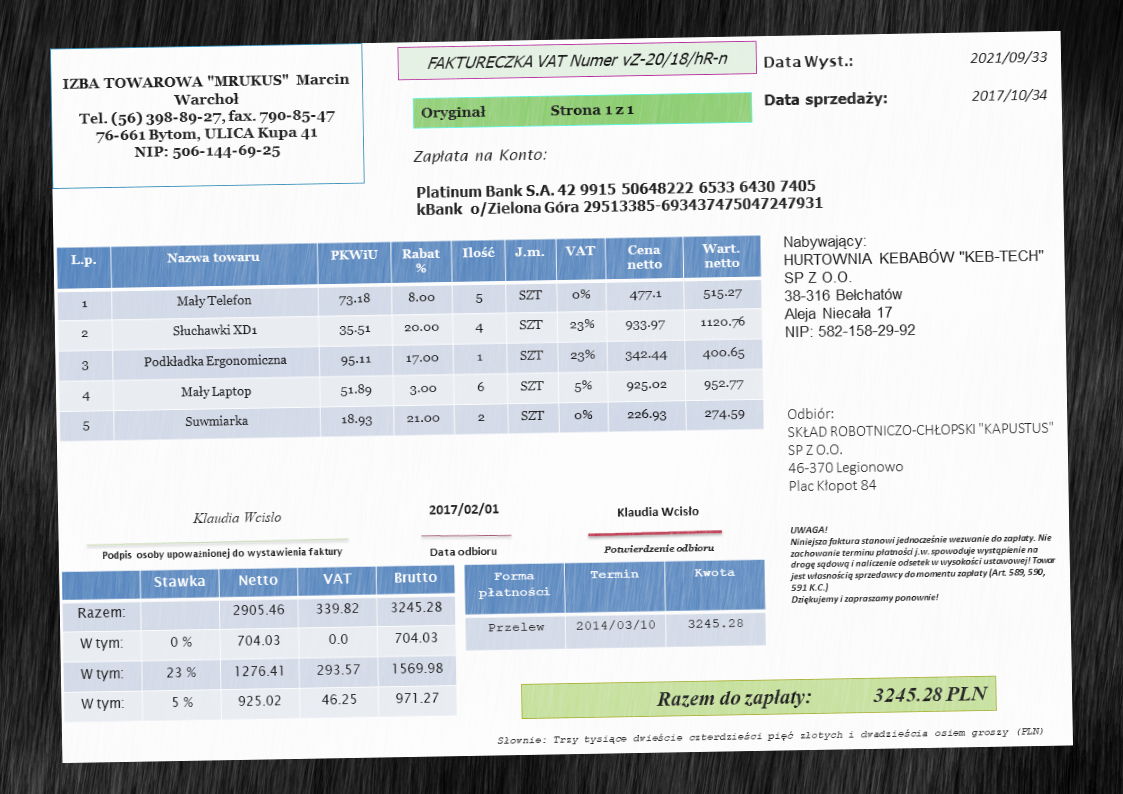Table: (55, 233, 765, 444), (60, 564, 457, 724), (462, 557, 768, 653)
TextBox: (781, 228, 1049, 341), (59, 69, 352, 165), (785, 401, 1058, 497), (786, 518, 1060, 608), (412, 176, 824, 219), (494, 724, 1047, 747), (654, 682, 990, 713), (424, 47, 732, 74), (418, 98, 636, 123), (100, 544, 346, 563), (411, 143, 550, 167), (760, 87, 891, 112), (762, 51, 856, 73), (189, 506, 283, 527), (601, 540, 717, 557), (967, 46, 1049, 69), (969, 84, 1049, 105), (425, 500, 502, 519), (613, 504, 700, 520), (427, 544, 497, 559)
